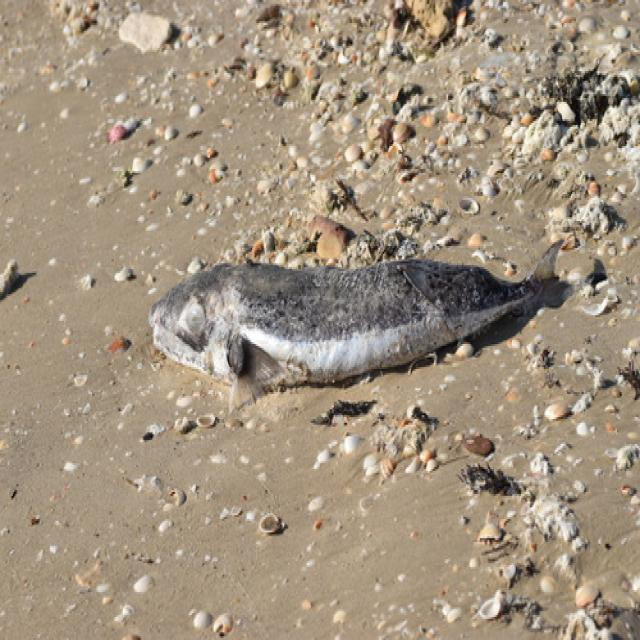Balik: (150, 243, 561, 405)
